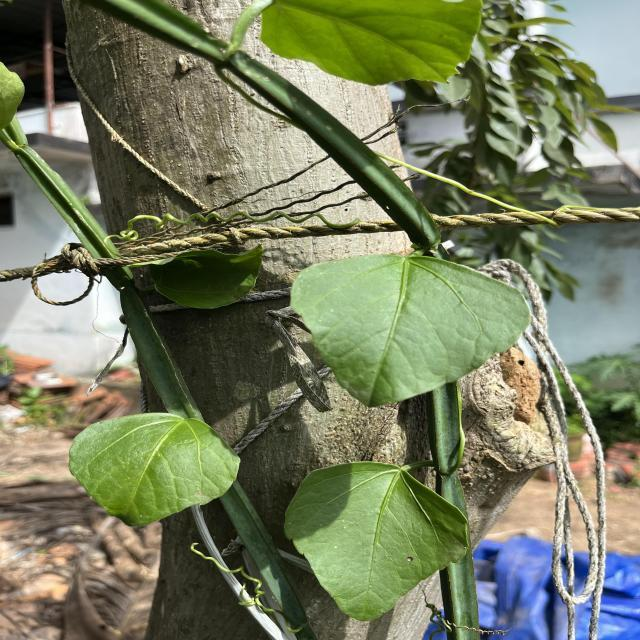Cissus quadrangularis: (279, 457, 473, 625), (65, 408, 243, 532)
